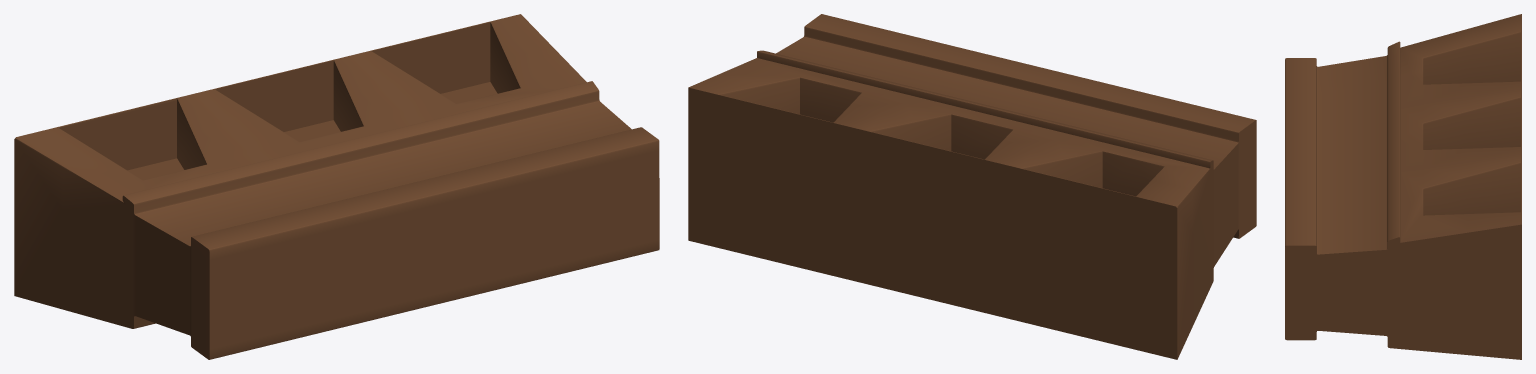
Rendered from Plain Exterior wall w doors.fbx.
3 views of the same model, side by side, from view 1: azimuth 30°, elevation 25°; view 2: azimuth 150°, elevation 25°; view 3: azimuth 270°, elevation 25° (orthographic). The views are drawn at different scales.
Parts seen in each view (by area): view 1: Plain_Exterior_wall_w_doors__3_; view 2: Plain_Exterior_wall_w_doors__3_; view 3: Plain_Exterior_wall_w_doors__3_.
Part boxes in pixels (left/top/right/bottom): Plain_Exterior_wall_w_doors__3_: left=14, top=14, right=659, bottom=359; Plain_Exterior_wall_w_doors__3_: left=688, top=14, right=1256, bottom=359; Plain_Exterior_wall_w_doors__3_: left=1285, top=14, right=1521, bottom=359.
Bounding box in the file's own units: 1688 × 505 × 800.
